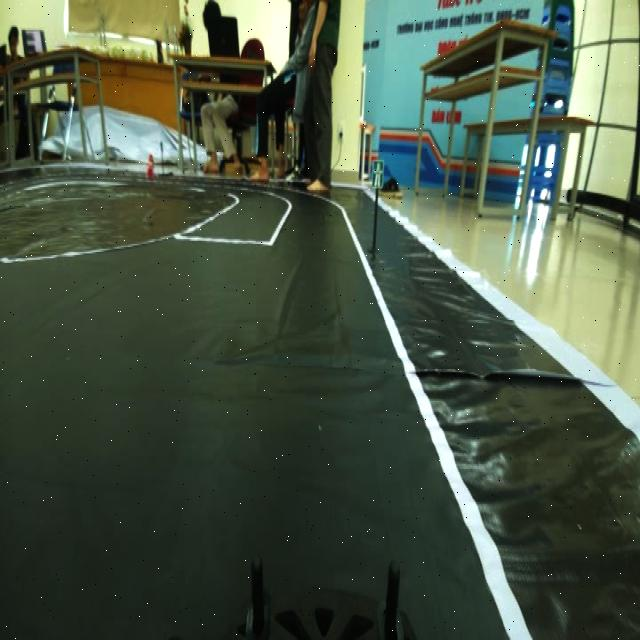highway_entry: (367, 157, 388, 198)
